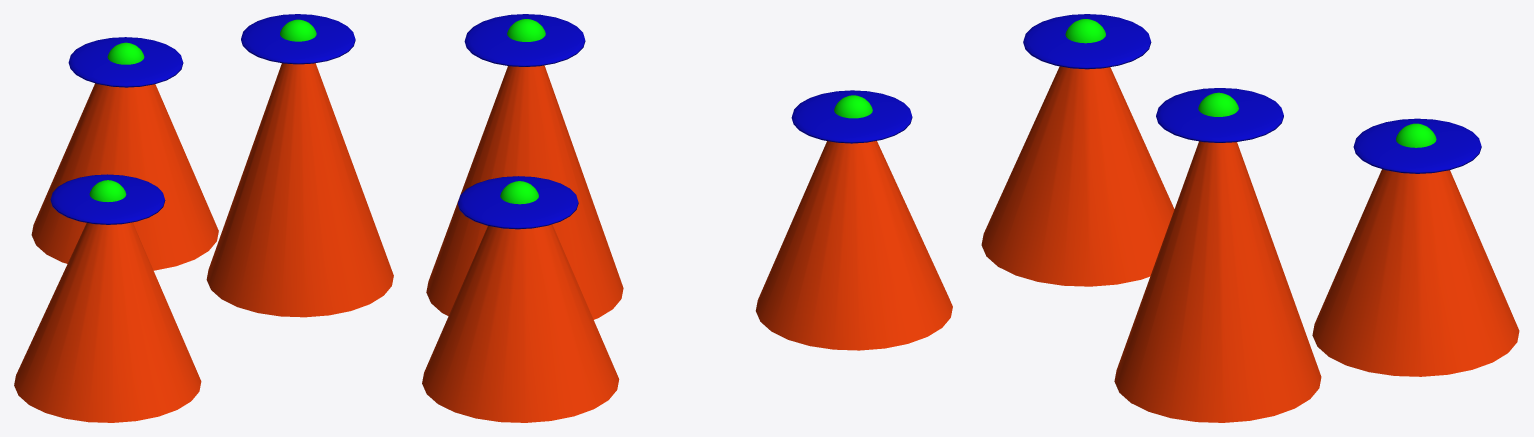
3 views of the same model, side by side, from view 1: azimuth 30°, elevation 25°; view 2: azimuth 150°, elevation 25°; view 3: azimuth 270°, elevation 25° (orthographic). The views are drawn at different scales.
Visible parts, largest first — view 1: SketchUp (×3), Basic_Sphere (×6); view 2: SketchUp (×3), Basic_Sphere (×6); view 3: SketchUp (×3), Basic_Sphere (×6).
Boxes of the visible parts, left/top/right/bottom form: SketchUp (×3): left=14, top=63, right=393, bottom=422; Basic_Sphere (×6): left=50, top=14, right=355, bottom=224; SketchUp (×3): left=422, top=65, right=952, bottom=422; Basic_Sphere (×6): left=458, top=14, right=912, bottom=229; SketchUp (×3): left=981, top=66, right=1519, bottom=422; Basic_Sphere (×6): left=1023, top=14, right=1481, bottom=173.
Size of the model in its own units: 1937 by 1967 by 1143.
